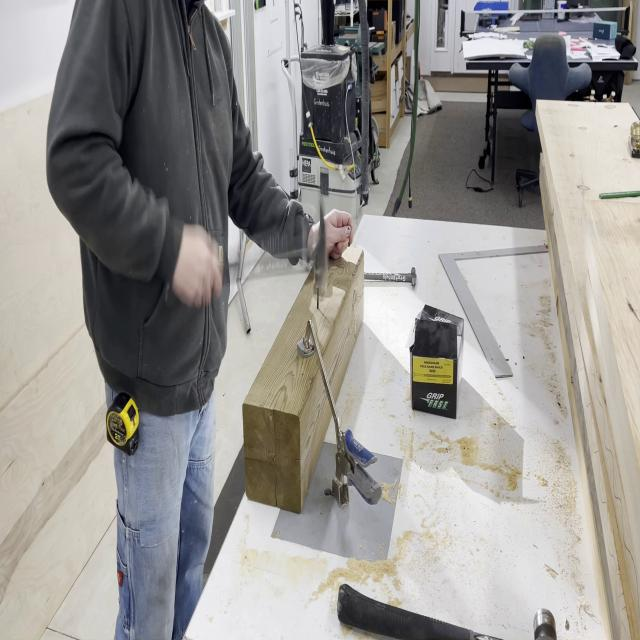hammer: (335, 580, 556, 640)
